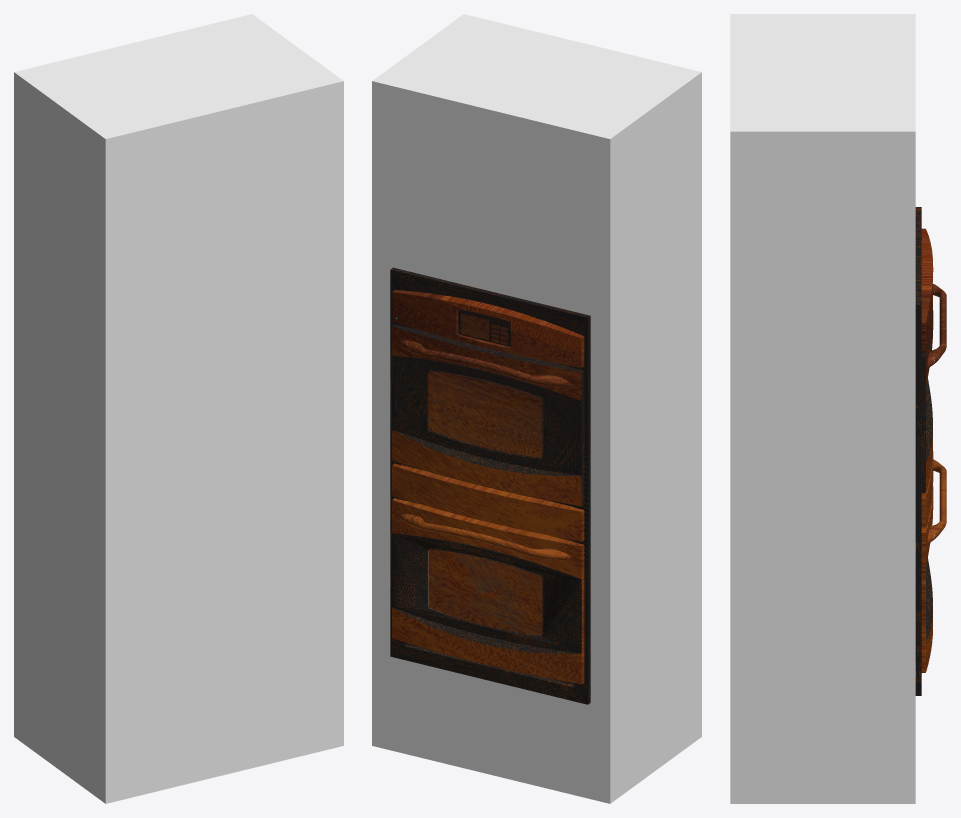
3 renders of one model, left to right at view 1: azimuth 30°, elevation 25°; view 2: azimuth 150°, elevation 25°; view 3: azimuth 270°, elevation 25°, orthographic.
Parts seen in each view (by area): view 1: mesh48_mesh48-geometry; view 2: mesh48_mesh48-geometry, mesh19_mesh19-geometry, mesh22_mesh22-geometry, mesh36_mesh36-geometry, mesh31_mesh31-geometry, mesh20_mesh20-geometry, mesh21_mesh21-geometry, mesh8_mesh8-geometry, mesh9_mesh9-geometry; view 3: mesh48_mesh48-geometry, mesh36_mesh36-geometry, mesh22_mesh22-geometry, mesh19_mesh19-geometry, mesh20_mesh20-geometry, mesh8_mesh8-geometry, mesh9_mesh9-geometry, mesh21_mesh21-geometry.
Boxes of the visible parts, bbox=[...] form: mesh48_mesh48-geometry: bbox=[14, 14, 343, 803]; mesh48_mesh48-geometry: bbox=[372, 14, 701, 803]; mesh19_mesh19-geometry: bbox=[392, 324, 584, 506]; mesh22_mesh22-geometry: bbox=[392, 498, 584, 684]; mesh36_mesh36-geometry: bbox=[390, 267, 590, 704]; mesh31_mesh31-geometry: bbox=[428, 549, 542, 635]; mesh20_mesh20-geometry: bbox=[392, 290, 584, 367]; mesh21_mesh21-geometry: bbox=[392, 463, 584, 541]; mesh8_mesh8-geometry: bbox=[399, 340, 571, 386]; mesh9_mesh9-geometry: bbox=[399, 514, 571, 560]; mesh48_mesh48-geometry: bbox=[730, 14, 915, 803]; mesh36_mesh36-geometry: bbox=[915, 207, 921, 695]; mesh22_mesh22-geometry: bbox=[921, 486, 933, 672]; mesh19_mesh19-geometry: bbox=[921, 310, 933, 493]; mesh20_mesh20-geometry: bbox=[921, 228, 933, 352]; mesh8_mesh8-geometry: bbox=[927, 284, 946, 368]; mesh9_mesh9-geometry: bbox=[927, 459, 946, 543]; mesh21_mesh21-geometry: bbox=[921, 451, 933, 528].
Bounding box in the file's own units: 0.3387 × 0.9033 × 0.2634.
